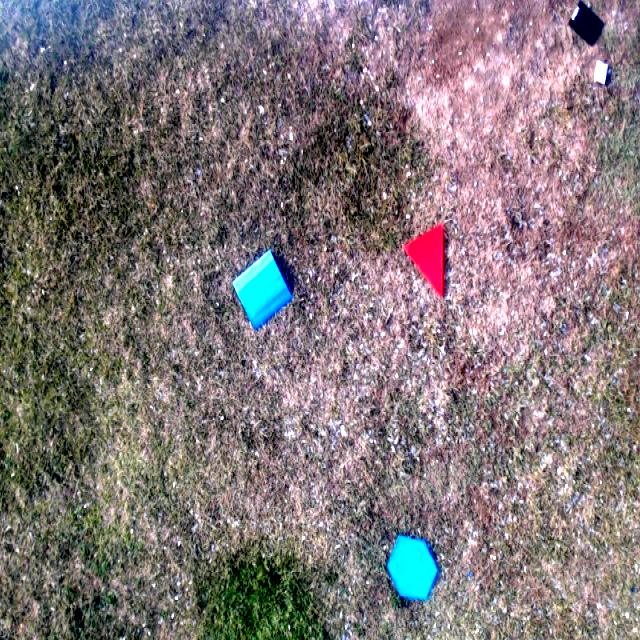blue_hexagon: (387, 528, 438, 601)
blue_square: (230, 250, 294, 332)
red_triangle: (402, 224, 445, 299)
